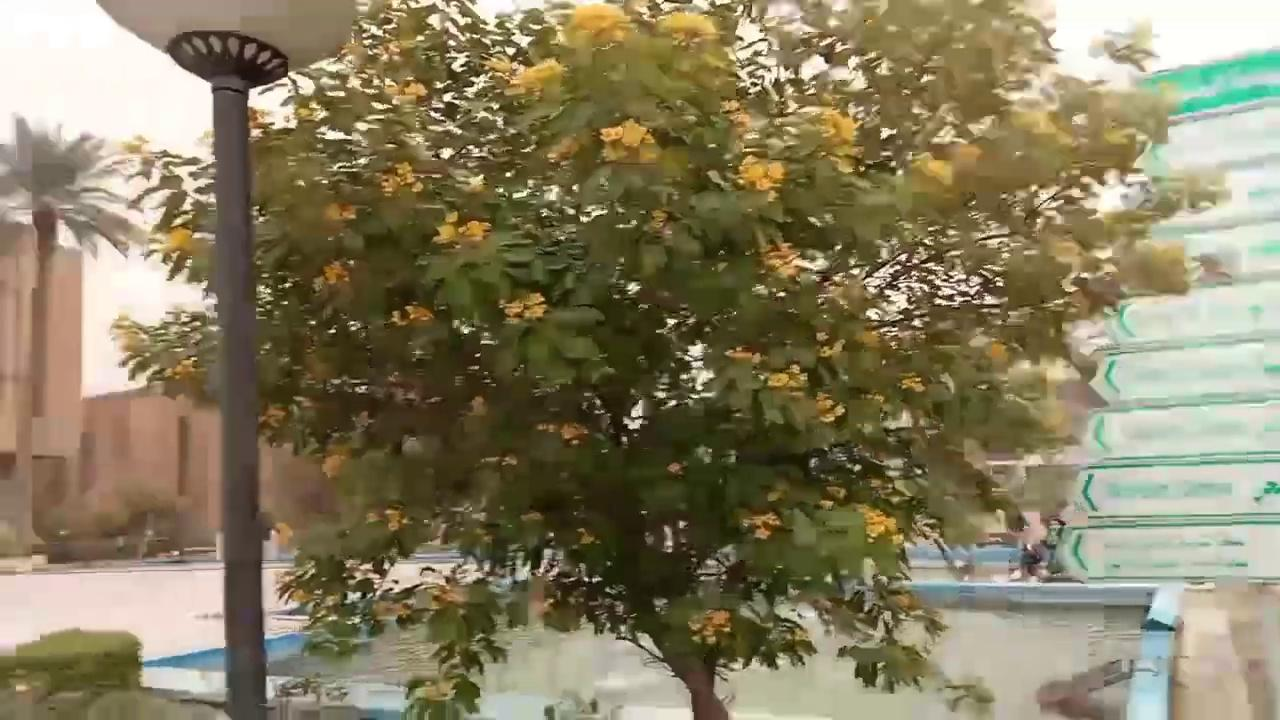fountain: (157, 560, 1205, 720)
person: (1018, 542, 1040, 580)
tree: (104, 0, 1190, 718), (0, 111, 142, 561)
